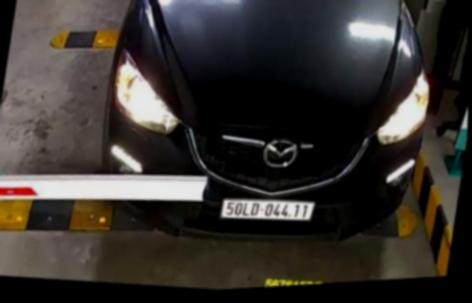License_Plate: (218, 187, 324, 235)
